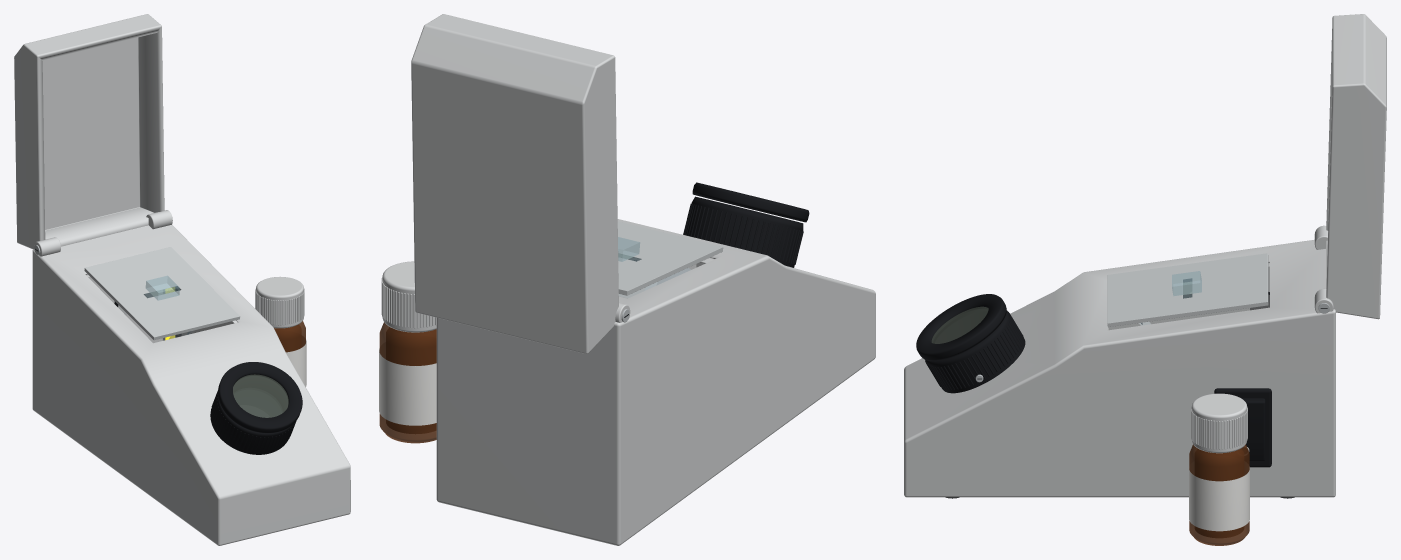
3 renders of one model, left to right at view 1: azimuth 30°, elevation 25°; view 2: azimuth 150°, elevation 25°; view 3: azimuth 270°, elevation 25°, orthographic. The views are drawn at different scales.
Parts seen in each view (by area): view 1: Refractometer_body, Refractometer_cover, Steel stage with narrow exposed prism, Refractometer_polarizer, Refractometer_eyepiece, Refractometer_oil_bottle, Flat polished isotropic sample; view 2: Refractometer_body, Refractometer_cover, Refractometer_oil_bottle, Refractometer_eyepiece, Steel stage with narrow exposed prism, Refractometer_polarizer; view 3: Refractometer_body, Refractometer_cover, Refractometer_oil_bottle, Steel stage with narrow exposed prism, Refractometer_eyepiece, Refractometer_polarizer, Refractometer_power_switch, Flat polished isotropic sample.
Boxes of the visible parts, x1=… form: Refractometer_body: x1=32, y1=225, x2=350, y2=545; Refractometer_cover: x1=14, y1=14, x2=172, y2=256; Steel stage with narrow exposed prism: x1=84, y1=247, x2=240, y2=340; Refractometer_polarizer: x1=218, y1=362, x2=302, y2=433; Refractometer_eyepiece: x1=210, y1=378, x2=296, y2=454; Refractometer_oil_bottle: x1=255, y1=276, x2=306, y2=386; Flat polished isotropic sample: x1=145, y1=275, x2=179, y2=300; Refractometer_body: x1=436, y1=219, x2=875, y2=545; Refractometer_cover: x1=411, y1=14, x2=630, y2=353; Refractometer_oil_bottle: x1=379, y1=261, x2=436, y2=443; Refractometer_eyepiece: x1=683, y1=196, x2=803, y2=267; Steel stage with narrow exposed prism: x1=617, y1=221, x2=723, y2=295; Refractometer_polarizer: x1=692, y1=182, x2=809, y2=222; Refractometer_body: x1=904, y1=239, x2=1335, y2=498; Refractometer_cover: x1=1314, y1=14, x2=1386, y2=319; Refractometer_oil_bottle: x1=1189, y1=393, x2=1249, y2=545; Steel stage with narrow exposed prism: x1=1107, y1=253, x2=1268, y2=327; Refractometer_eyepiece: x1=925, y1=310, x2=1025, y2=393; Refractometer_polarizer: x1=916, y1=294, x2=1006, y2=361; Refractometer_power_switch: x1=1241, y1=398, x2=1265, y2=460; Flat polished isotropic sample: x1=1172, y1=271, x2=1201, y2=295.
Size of the model in its own units: 0.1128 by 0.1767 by 0.1845.
